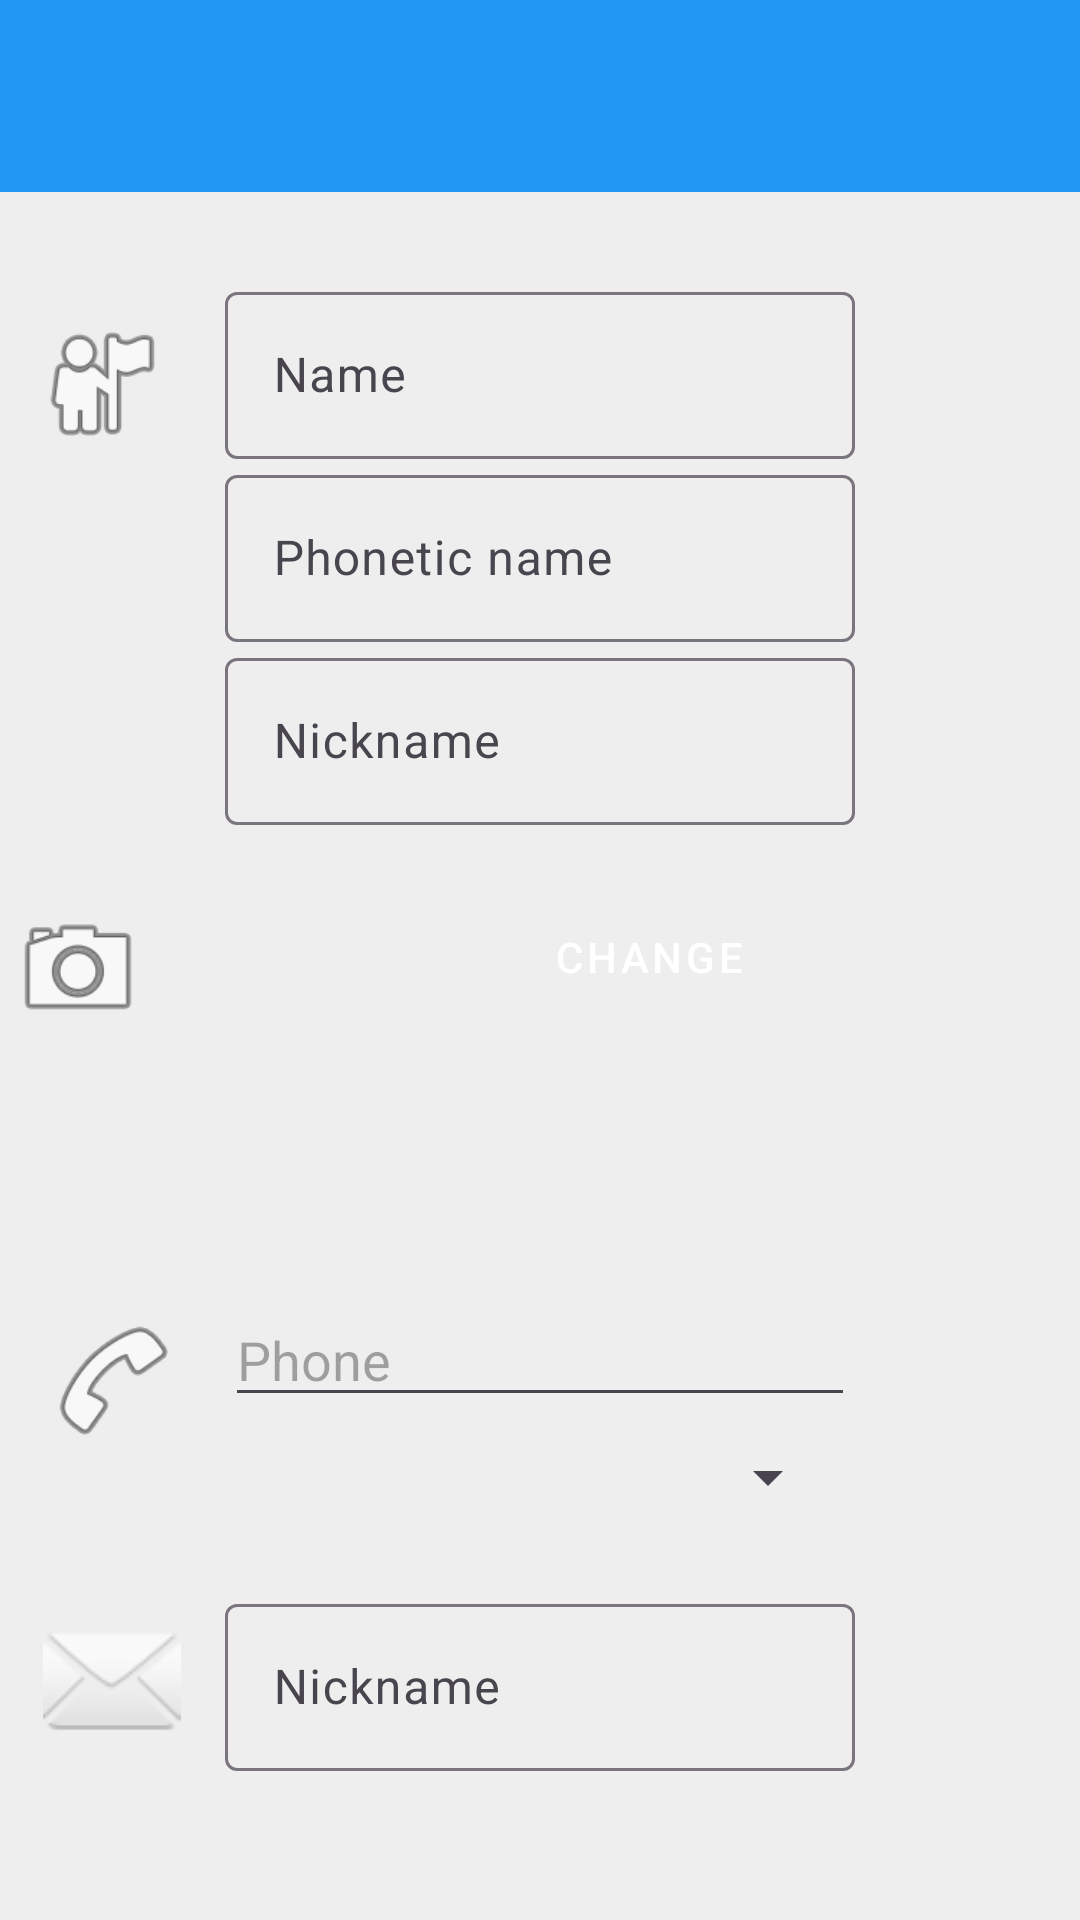

Icon bounding boxes for this 1080px×1920px phone screenshot, format bbox=[x1, y1, x2, y2]:
call: bbox=[60, 1327, 168, 1435]
camera: bbox=[24, 924, 132, 1010]
email: bbox=[43, 1637, 181, 1730]
myplaces: bbox=[50, 332, 154, 436]
